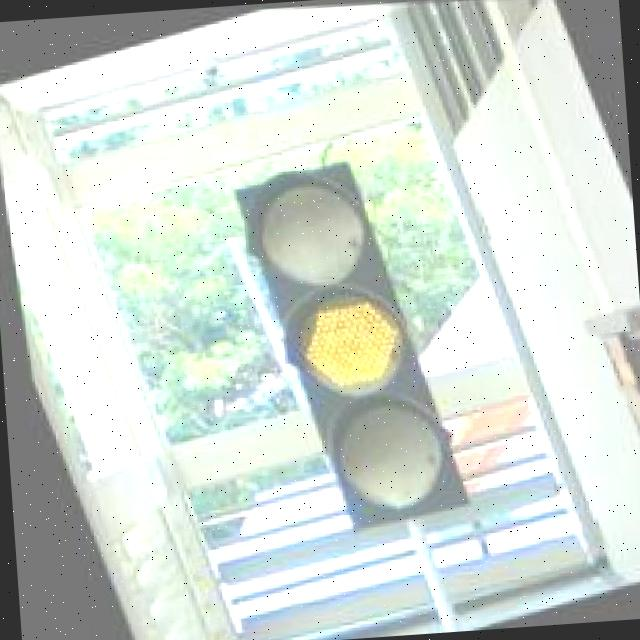yellow_light: (213, 144, 479, 547)
